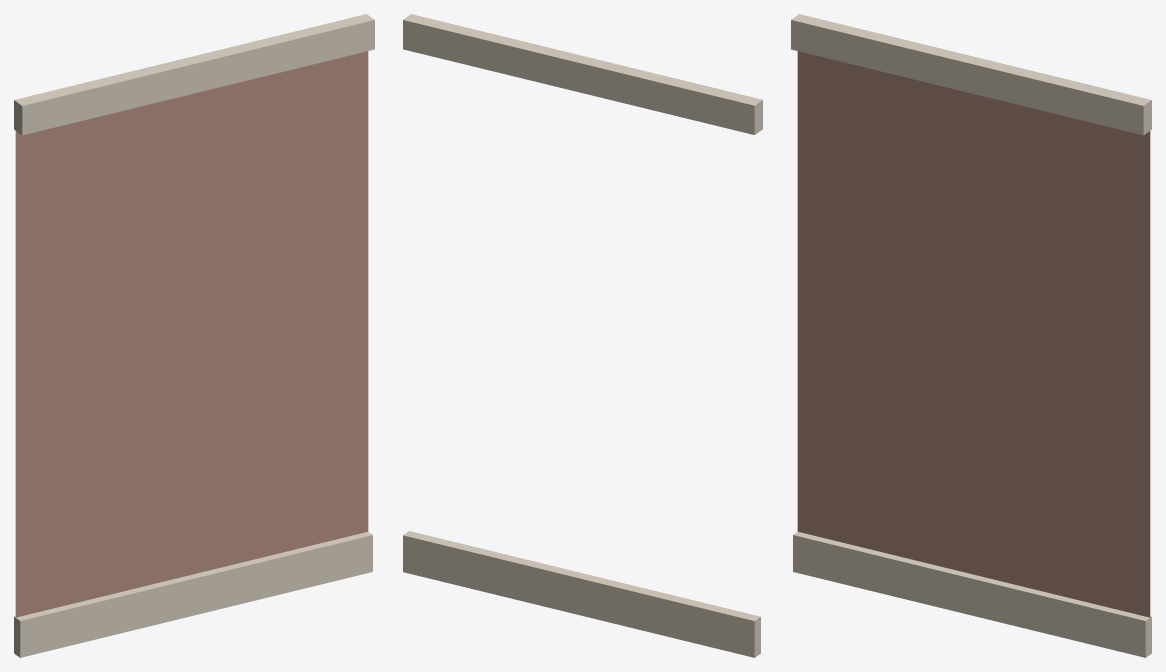
File: Wall.glb
3 renders of one model, left to right at view 1: azimuth 30°, elevation 25°; view 2: azimuth 150°, elevation 25°; view 3: azimuth 330°, elevation 25°, orthographic.
Parts seen in each view (by area): view 1: PBK_Brick_Wall_Exterior_Surface.001, PBK_base_trim.001, PBK_floor_band.048; view 2: PBK_base_trim.001, PBK_floor_band.048; view 3: PBK_Brick_Wall_Exterior_Surface.001, PBK_base_trim.001, PBK_floor_band.048.
Boxes of the visible parts, <box> form: PBK_Brick_Wall_Exterior_Surface.001: <box>15,51,368,617</box>; PBK_base_trim.001: <box>14,532,372,657</box>; PBK_floor_band.048: <box>14,14,374,135</box>; PBK_base_trim.001: <box>403,531,760,657</box>; PBK_floor_band.048: <box>403,14,762,134</box>; PBK_Brick_Wall_Exterior_Surface.001: <box>797,51,1150,617</box>; PBK_base_trim.001: <box>793,532,1151,657</box>; PBK_floor_band.048: <box>791,14,1151,135</box>.
Bounding box in the file's own units: 2 × 3 × 0.08.
